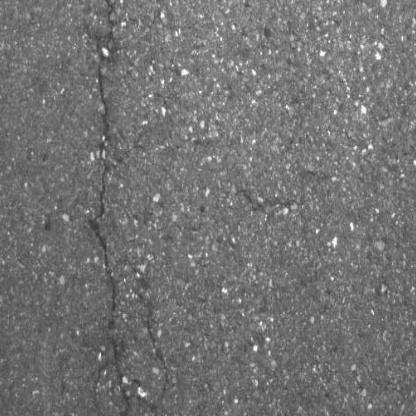Cracks: (84, 0, 174, 416)
